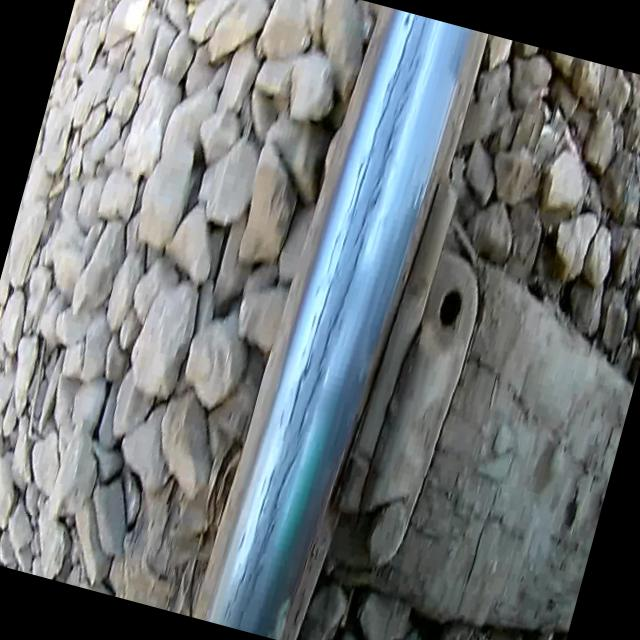Cracks: (215, 5, 442, 640)
